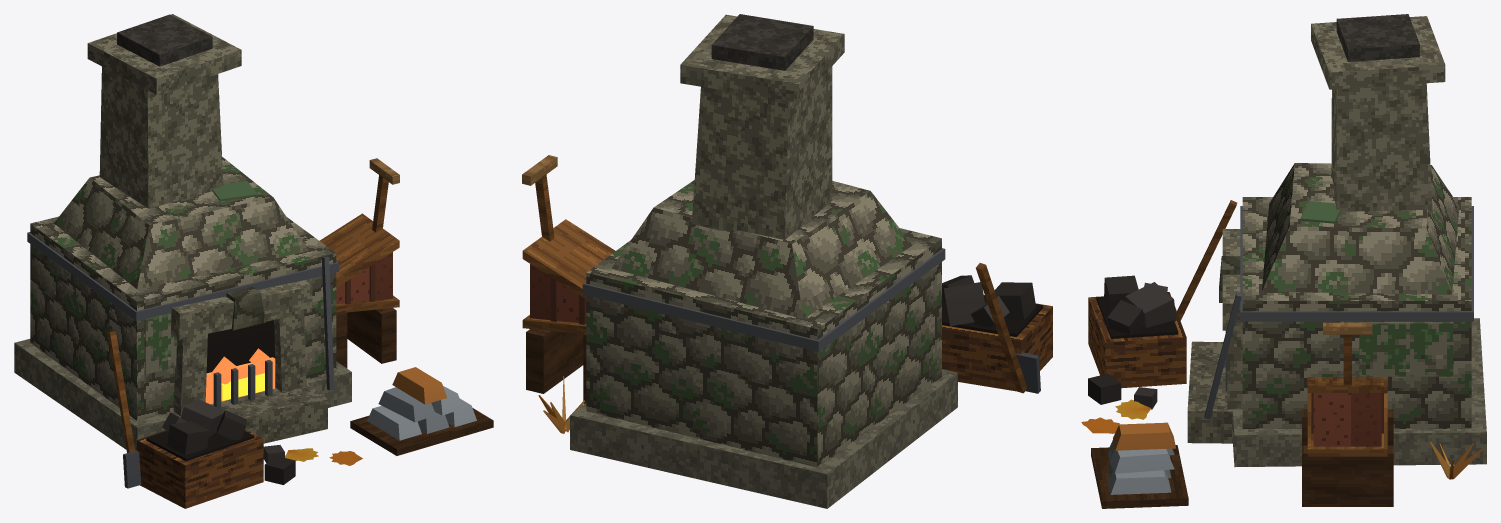
The model's file is smelter.glb.
3 views of the same model, side by side, from view 1: azimuth 30°, elevation 25°; view 2: azimuth 150°, elevation 25°; view 3: azimuth 270°, elevation 25° (orthographic). The views are drawn at different scales.
Visible parts, largest first — view 1: smelter, glow_mouth; view 2: smelter; view 3: smelter.
Part boxes in pixels (x1=…): smelter: x1=14, y1=14, x2=493, y2=508; glow_mouth: x1=205, y1=348, x2=275, y2=404; smelter: x1=522, y1=14, x2=1052, y2=508; smelter: x1=1081, y1=14, x2=1486, y2=508.
Size of the model in its own units: 3.67 by 3.53 by 3.45.
27 materials, 12 textured.
